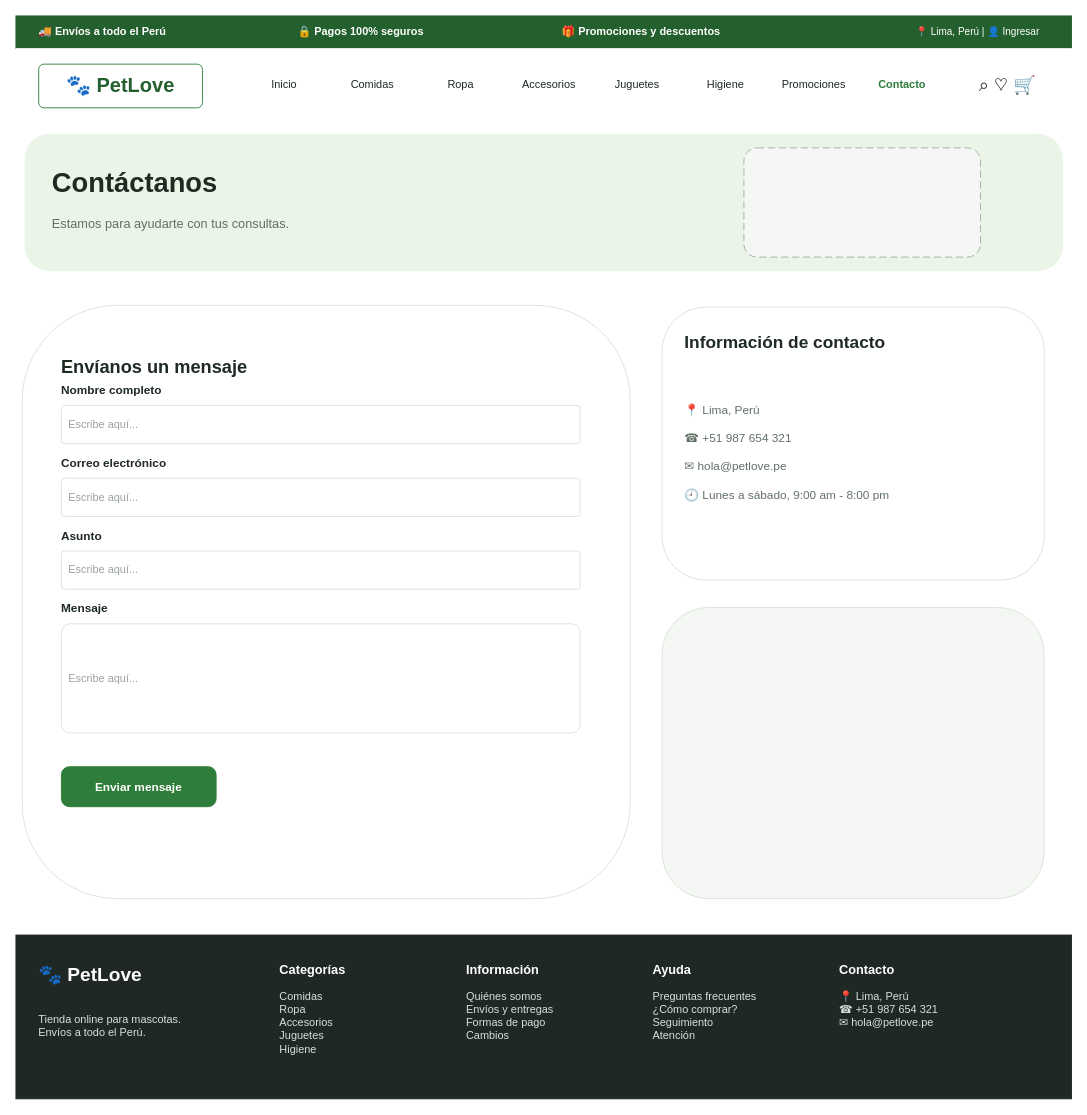
The diagram is 1087 pixels wide and 1115 high, and some of its shapes have lost their labels. Each missing label, with the centre of its shape:
"📍 ESPACIO PARA MAPA O IMAGEN" goes at point (852, 753).
"🖼 IMAGEN DE CONTACTO" goes at point (862, 202).
